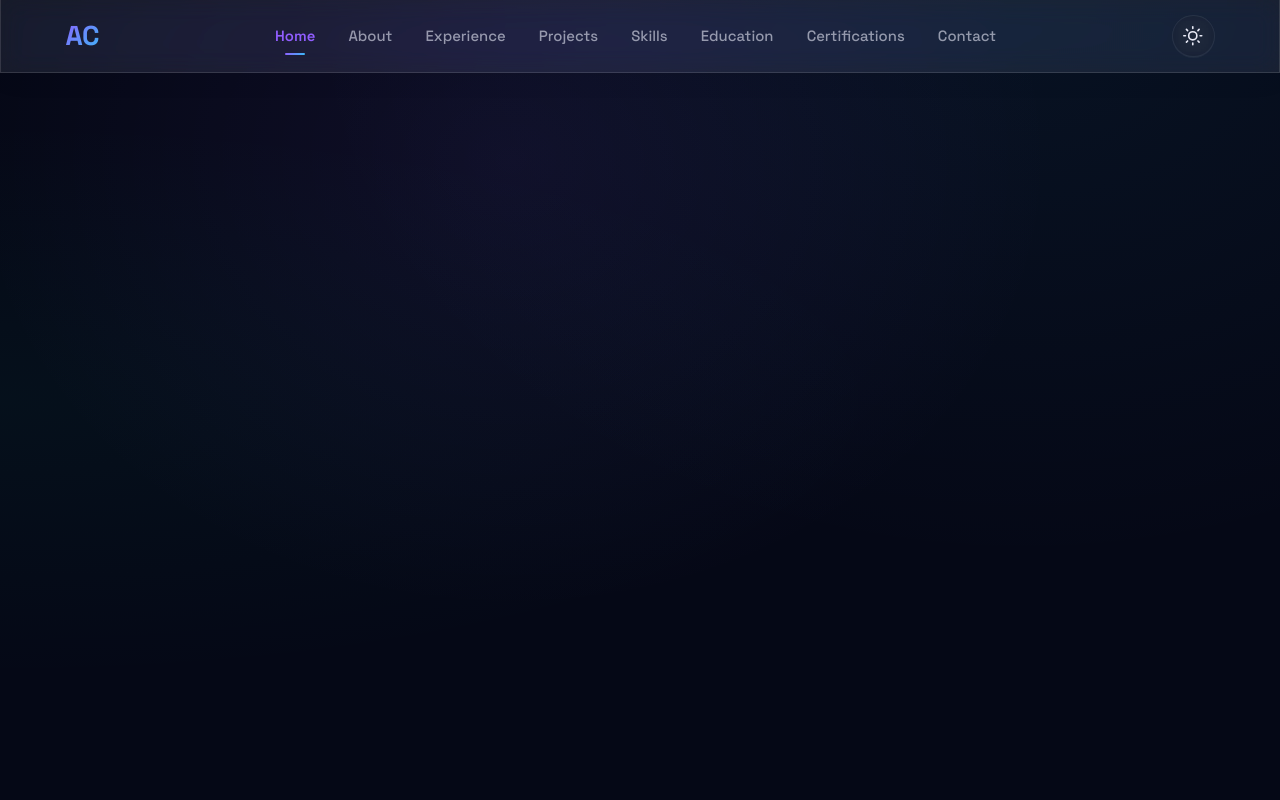
Test case: Navbar › toggles theme when theme button is clicked
Click the button named "Switch to light theme": (1193, 36) [1172,15,1214,57]
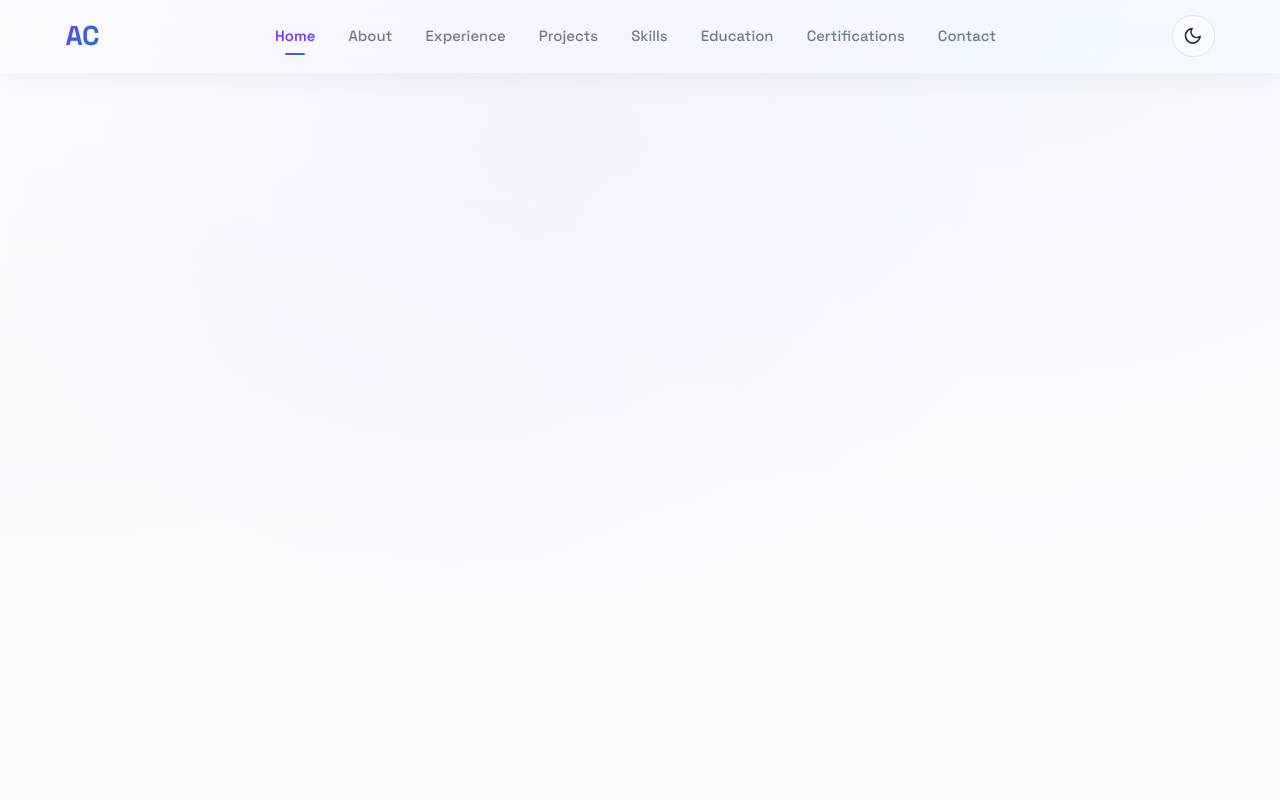
Check: the button named "Switch to dark theme" is shown, box [1172,15,1214,57]
